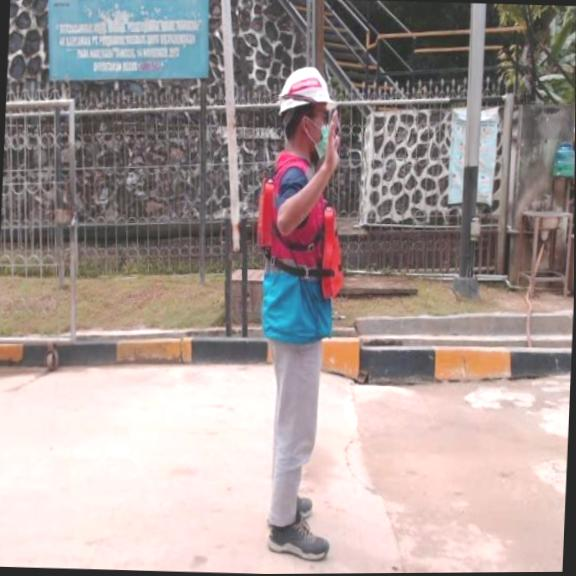safety_vest: (251, 172, 349, 302)
